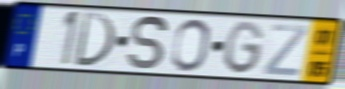1: (60, 9, 82, 69)
D: (71, 11, 117, 70)
G: (222, 19, 266, 77)
O: (169, 17, 212, 73)
S: (126, 14, 170, 73)
Z: (262, 23, 310, 78)
